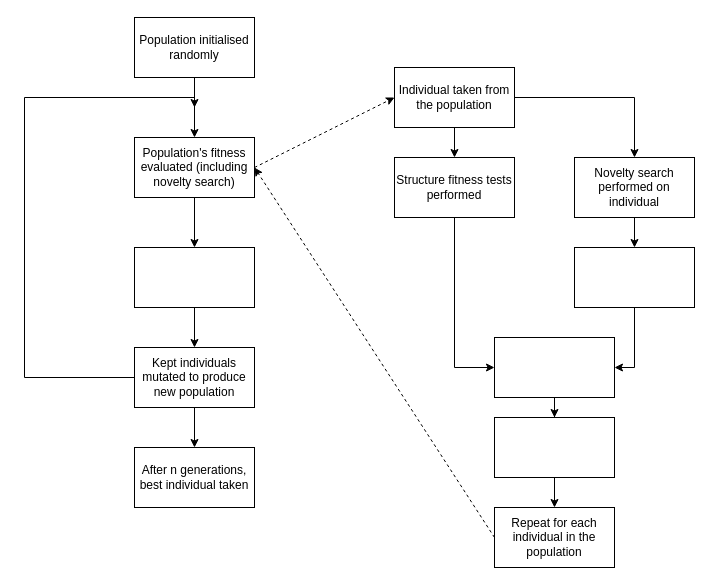
Some shapes in this 712 by 585 pixel diagram are drawn without their labels. Each missing label, with the centre of its shape:
"Get average distance to k nearest neighbours" goes at [634,277].
"Highest fitness individuals are kept" goes at [194,277].
"Individual fitness level assigned to combined value" goes at [554,447].
"novelty and fitness value combined (depends on novelty level)" goes at [554,367].
